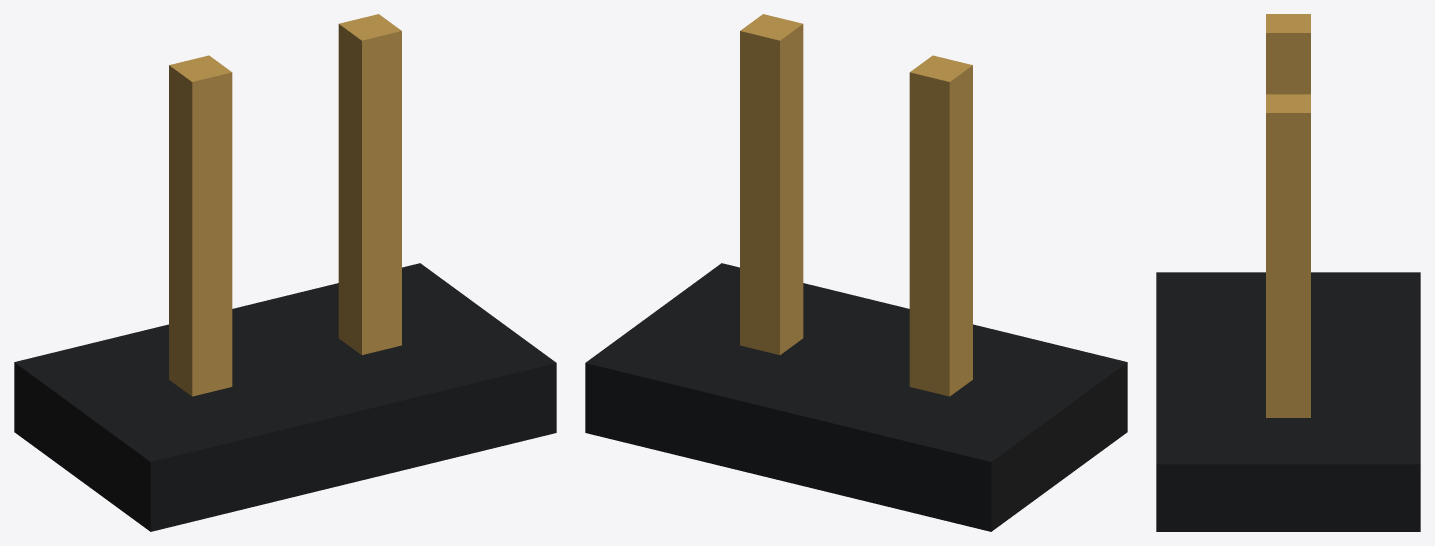
File: L129_JBAT1.fbx
The picture shows the model from 3 angles, left to right: view 1: azimuth 30°, elevation 25°; view 2: azimuth 150°, elevation 25°; view 3: azimuth 270°, elevation 25°; orthographic projection. The views are drawn at different scales.
Visible parts, largest first — view 1: JBAT1__Plastic, JBAT1__Gold; view 2: JBAT1__Plastic, JBAT1__Gold; view 3: JBAT1__Plastic, JBAT1__Gold.
Boxes of the visible parts, box(x1,y1,x2,y2) form: JBAT1__Plastic: box(14, 263, 556, 531); JBAT1__Gold: box(169, 14, 401, 396); JBAT1__Plastic: box(585, 263, 1127, 531); JBAT1__Gold: box(740, 14, 972, 396); JBAT1__Plastic: box(1156, 272, 1420, 531); JBAT1__Gold: box(1266, 14, 1310, 417).
Bounding box in the file's own units: 6.08 × 5.5 × 3.54.
